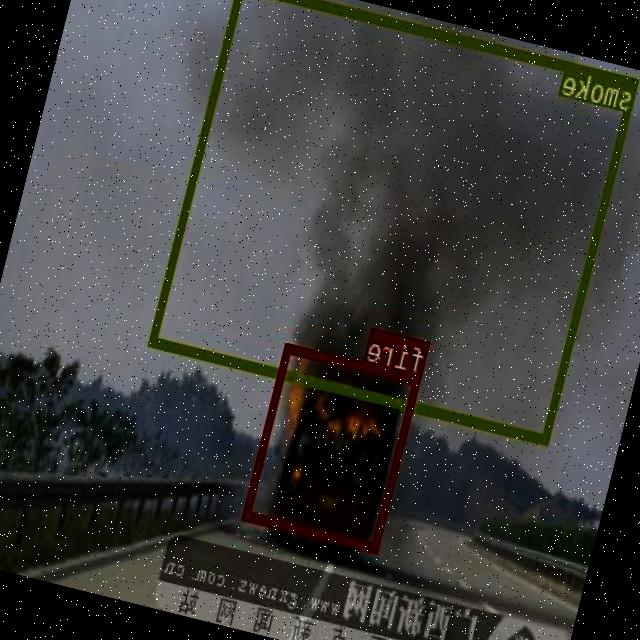fire: (243, 341, 422, 550)
smoke: (150, 0, 640, 444)
